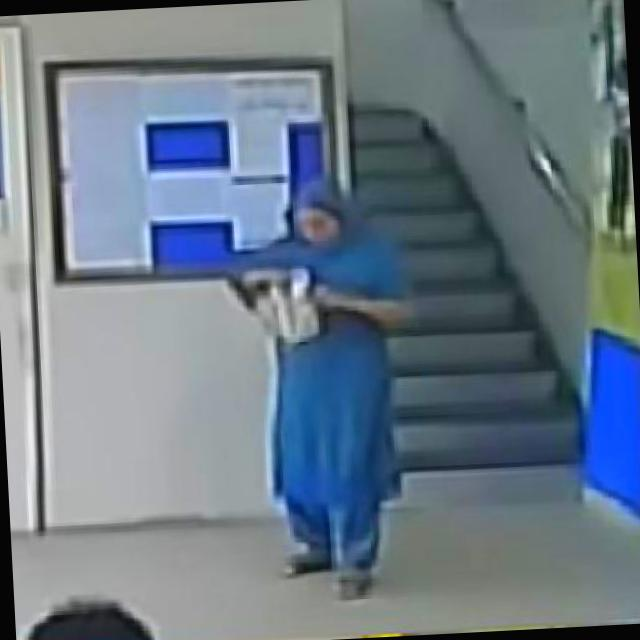Person: (238, 162, 440, 614)
